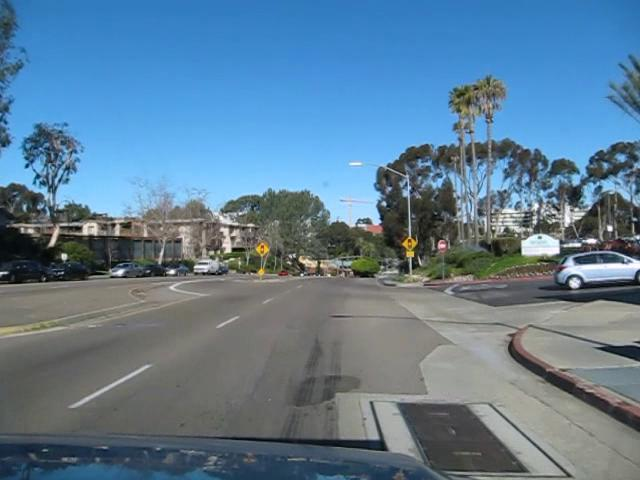signalAhead: (400, 235, 418, 252)
